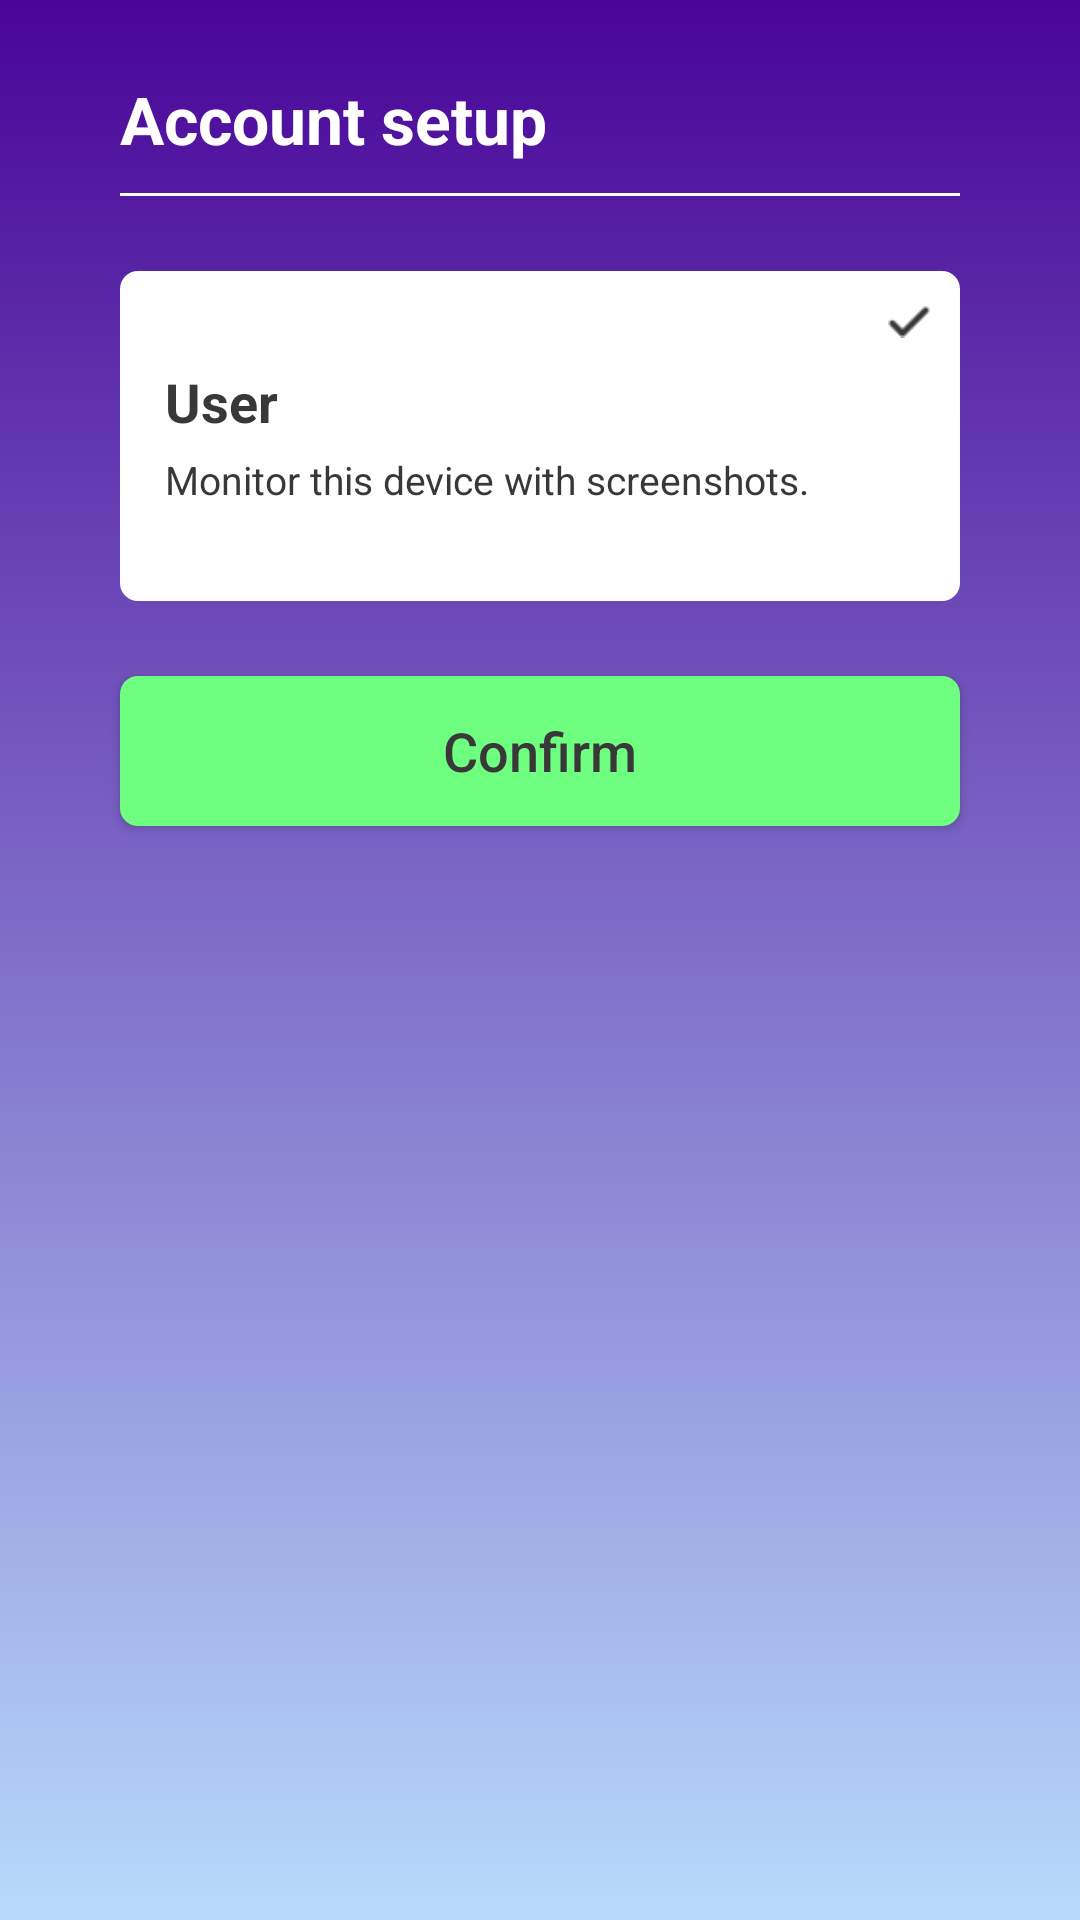

Icon click points for this 1080px×1920px phone screenshot, format (x,y):
tick: (909,322)
